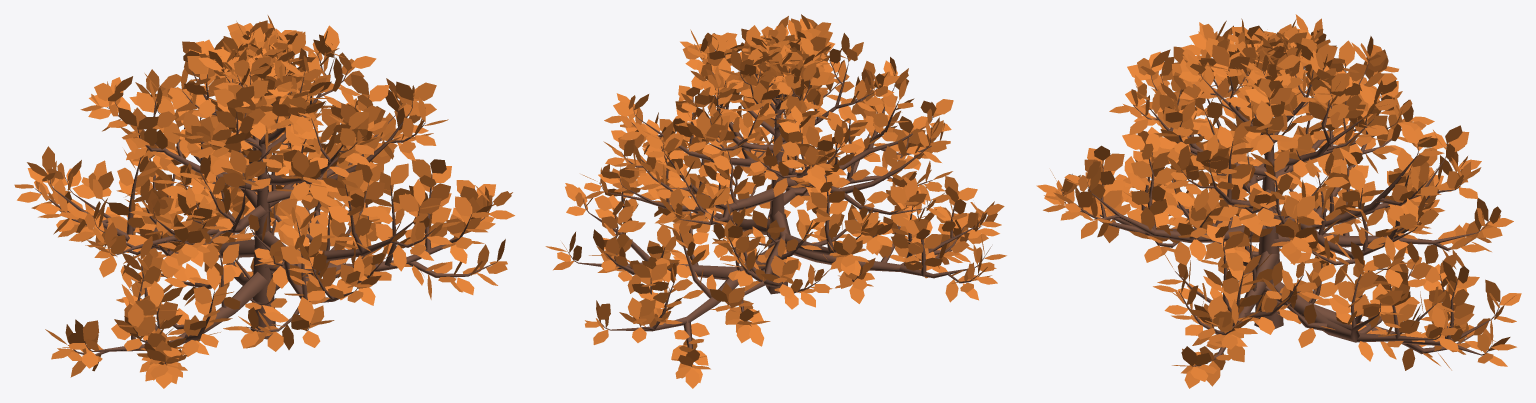
File: Bush1.fbx
The picture shows the model from 3 angles, left to right: view 1: azimuth 30°, elevation 25°; view 2: azimuth 150°, elevation 25°; view 3: azimuth 270°, elevation 25°; orthographic projection. The views are drawn at different scales.
Parts seen in each view (by area): view 1: leaves.003, tree; view 2: leaves.003, tree; view 3: leaves.003, tree.
Boxes of the visible parts, x1=… form: leaves.003: x1=14, y1=15, x2=514, y2=388; tree: x1=34, y1=51, x2=496, y2=364; leaves.003: x1=545, y1=14, x2=1006, y2=388; tree: x1=568, y1=48, x2=984, y2=367; leaves.003: x1=1036, y1=14, x2=1521, y2=388; tree: x1=1060, y1=44, x2=1500, y2=366.
Size of the model in its own units: 193 by 136 by 181.
